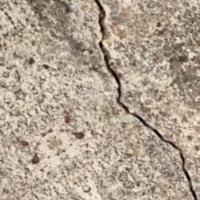crack: (87, 0, 199, 199)
